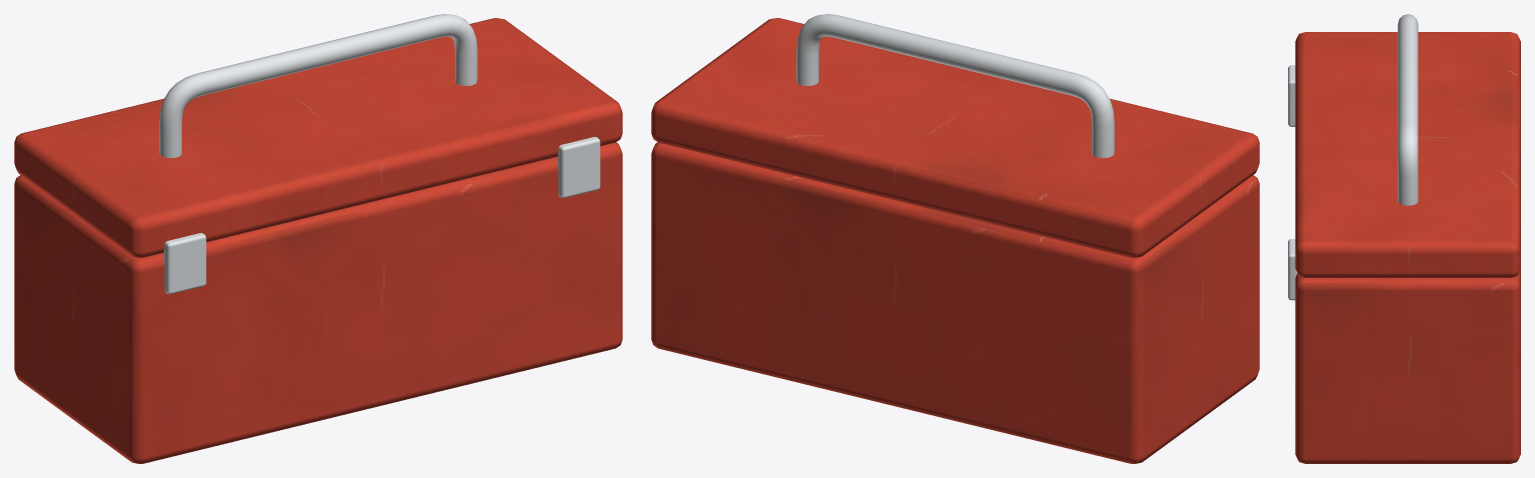
Rendered from Toolbox.glb.
The picture shows the model from 3 angles, left to right: view 1: azimuth 30°, elevation 25°; view 2: azimuth 150°, elevation 25°; view 3: azimuth 270°, elevation 25°; orthographic projection. The views are drawn at different scales.
Parts seen in each view (by area): view 1: Toolbox_Body, Toolbox_Lid; view 2: Toolbox_Body, Toolbox_Lid; view 3: Toolbox_Lid, Toolbox_Body.
Part boxes in pixels (x1=…): Toolbox_Body: x1=14, y1=137, x2=622, y2=463; Toolbox_Lid: x1=14, y1=14, x2=622, y2=257; Toolbox_Body: x1=651, y1=142, x2=1259, y2=463; Toolbox_Lid: x1=651, y1=14, x2=1259, y2=257; Toolbox_Lid: x1=1295, y1=14, x2=1520, y2=277; Toolbox_Body: x1=1288, y1=65, x2=1520, y2=463.
Bounding box in the file's own units: 0.5 × 0.31 × 0.227.
2 materials, 1 textured.
